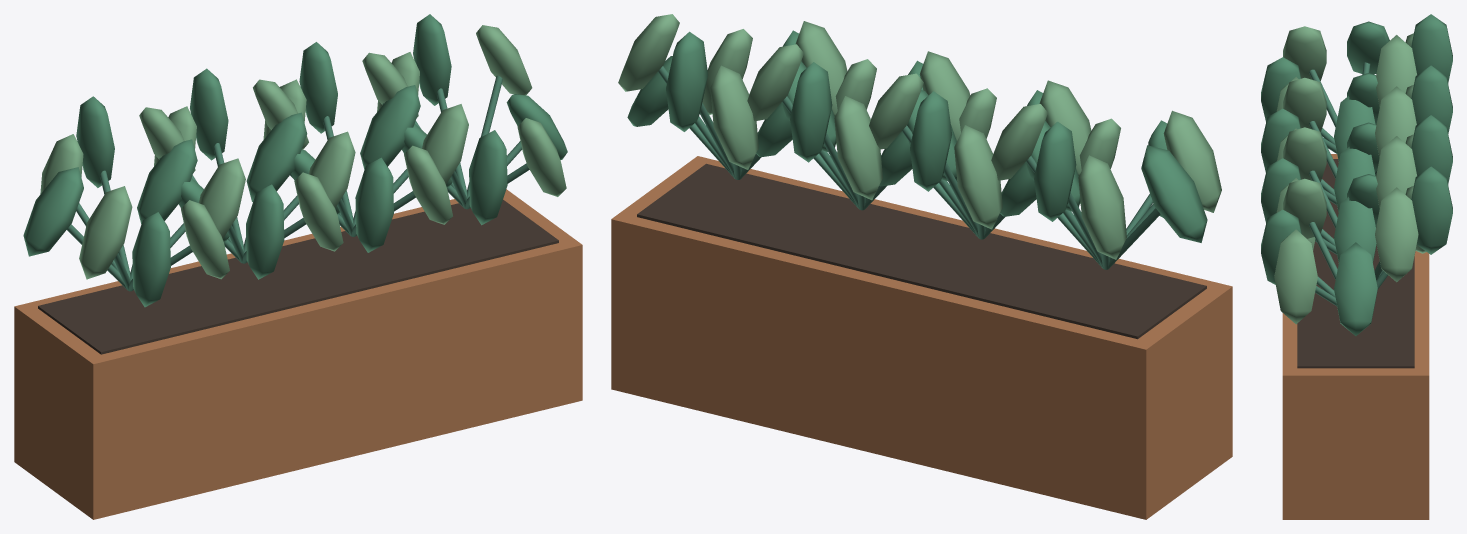
The model's file is officePlanter.glb.
3 views of the same model, side by side, from view 1: azimuth 30°, elevation 25°; view 2: azimuth 150°, elevation 25°; view 3: azimuth 270°, elevation 25° (orthographic). The views are drawn at different scales.
Bounding box in the file's own units: 1.35 × 0.8438 × 0.4574.
